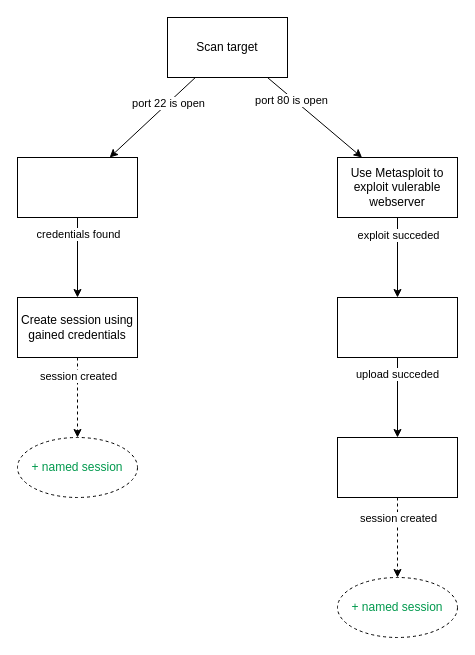
This 475x655 diagram has some shape labels left out. Here are the shapes that lost their labels. From the top down, the centre of each, then its label:
At [77,187]: "Run bruteforce attack".
At [397,327]: "Upload web shell".
At [397,467]: "Create reverse shell".
